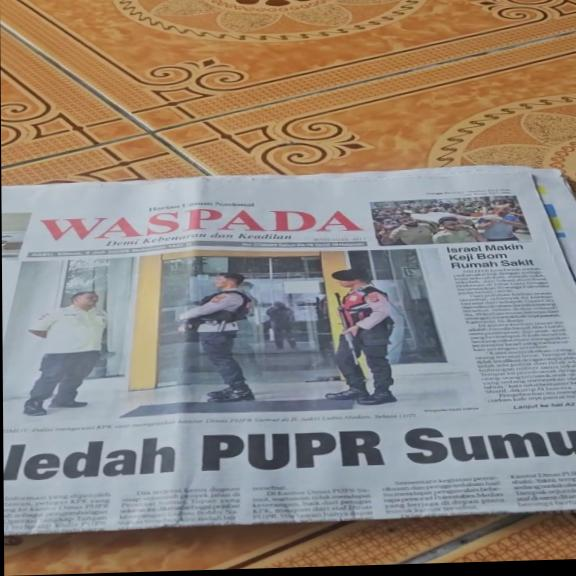Kertas: (3, 165, 568, 526)
